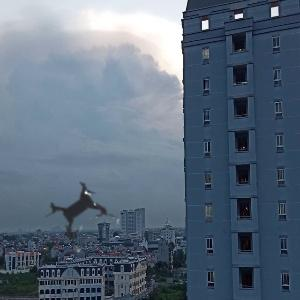drone: (21, 153, 143, 275)
